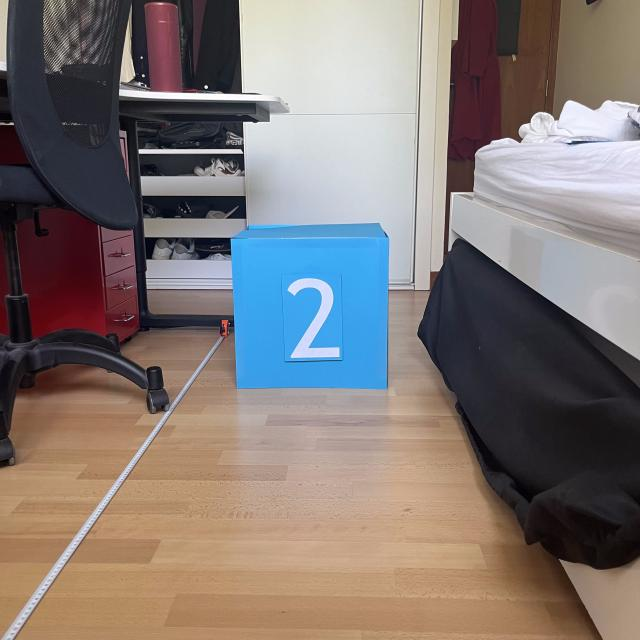box: (226, 218, 393, 392)
